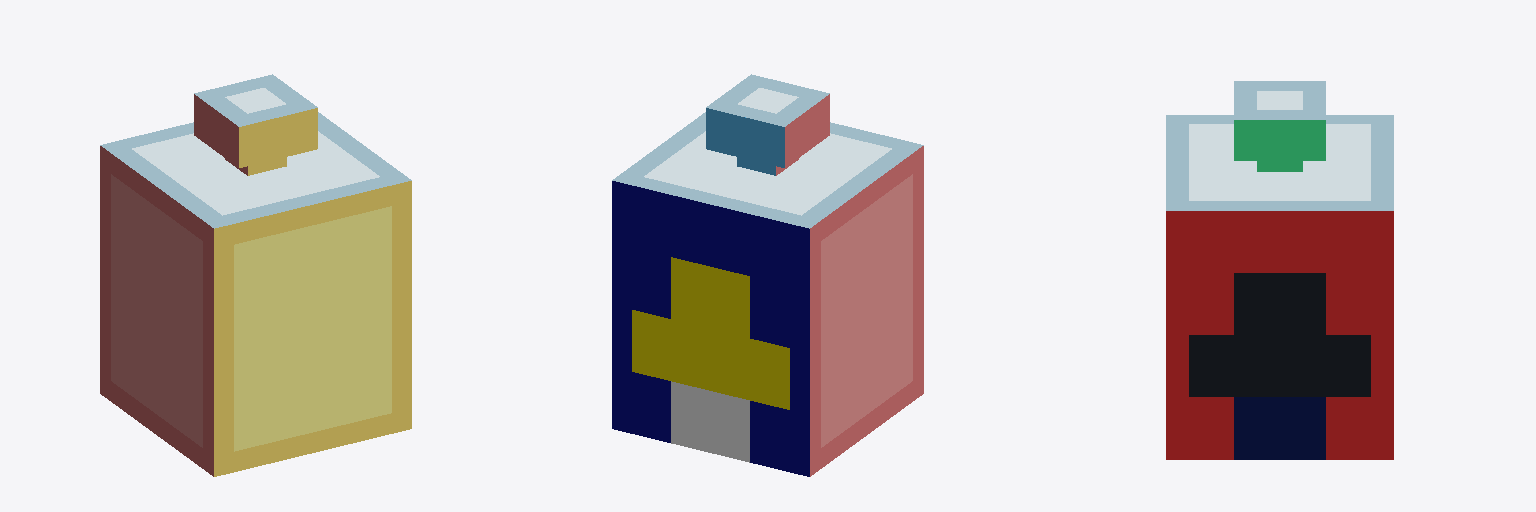
The picture shows the model from 3 angles: view 1: azimuth 30°, elevation 25°; view 2: azimuth 150°, elevation 25°; view 3: azimuth 270°, elevation 25°; orthographic projection.
Parts seen in each view (by area): view 1: cube; view 2: cube; view 3: cube.
Part boxes in pixels (x1,y1,x2,y2): cube: (100,74,411,476); cube: (612,74,923,476); cube: (1166,81,1393,459).
Size of the model in its own units: 0.625 by 0.9375 by 0.625.
1 materials, 1 textured.